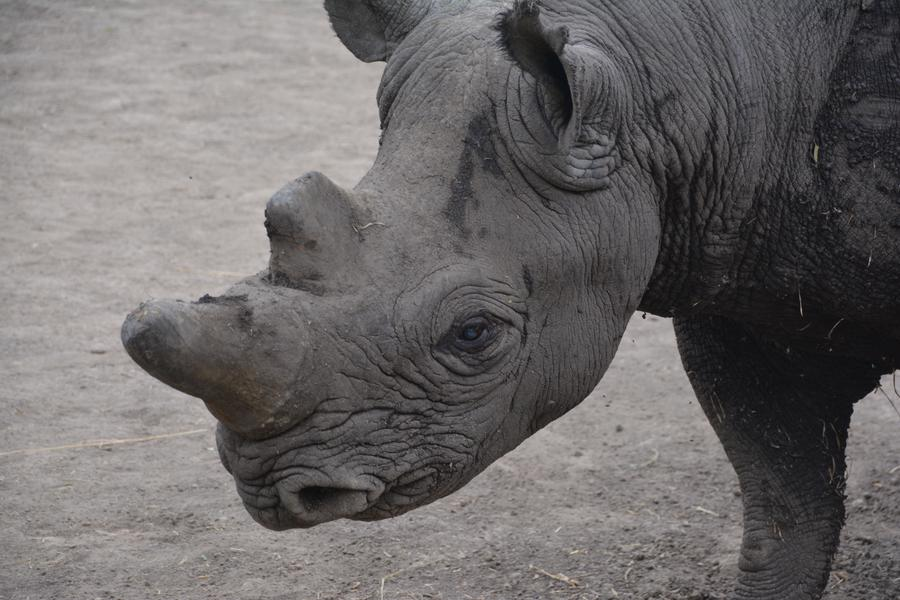rhino: (170, 18, 885, 520)
